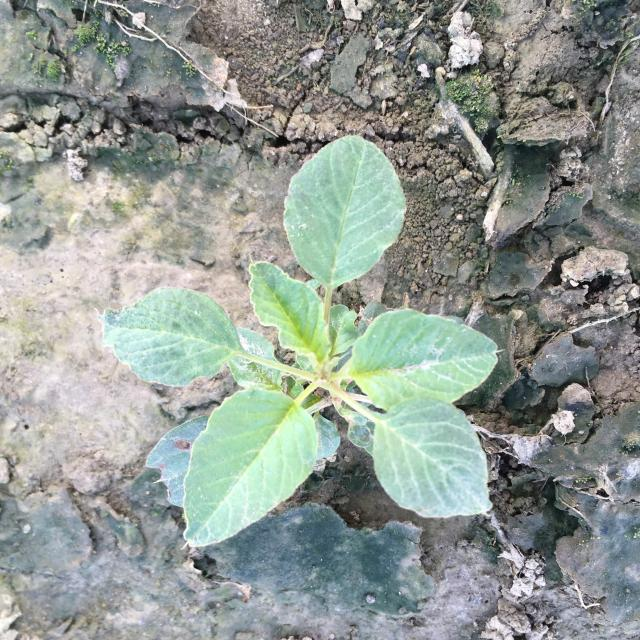PalmerAmaranth: (97, 135, 498, 548)
